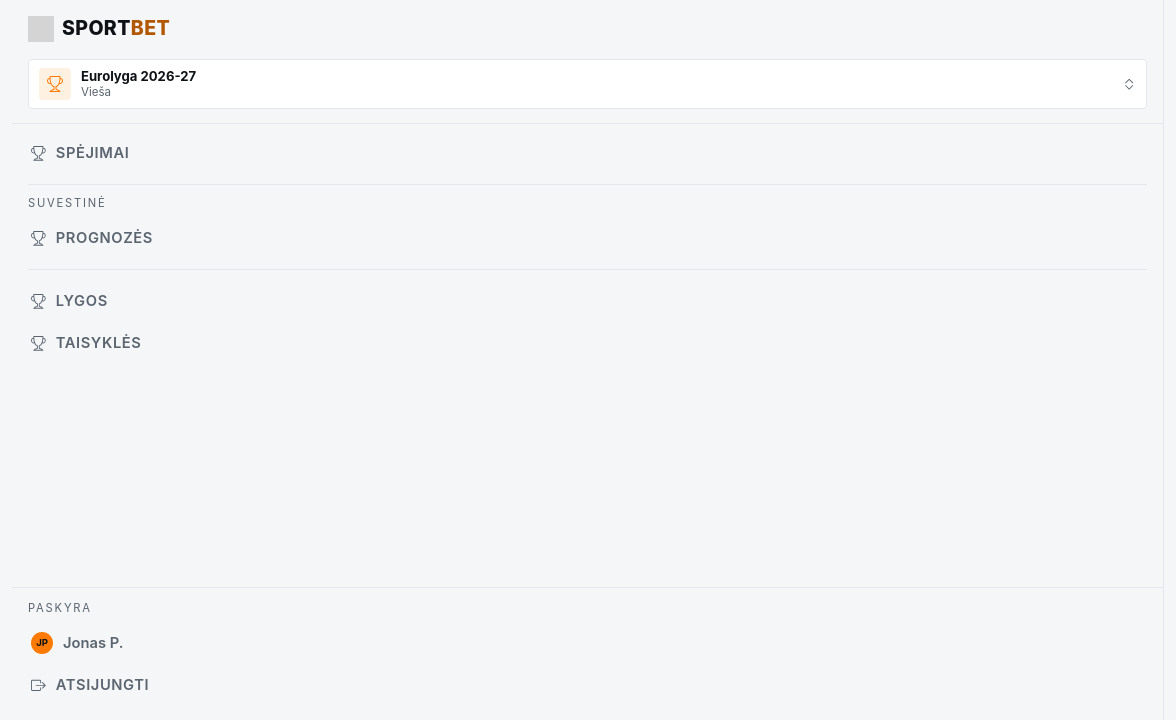
PlayerRail › opens on the way out of the tournament and the leagues
Click the button "Eurolyga 2026-27 Vieša" at (55,84), box x1=28 y1=59 x2=1147 y2=109
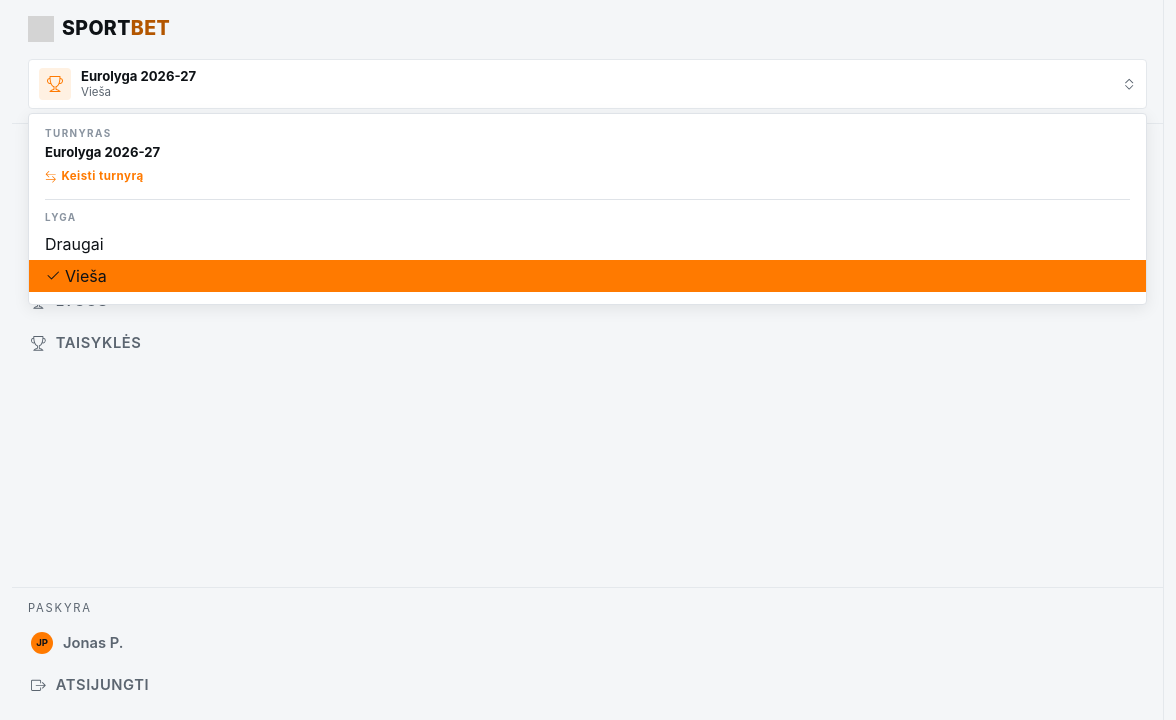
Expected: the text "Lyga" is shown, x1=45 y1=211 x2=77 y2=223
Expected: the button "Draugai" is shown, x1=29 y1=228 x2=1146 y2=260
